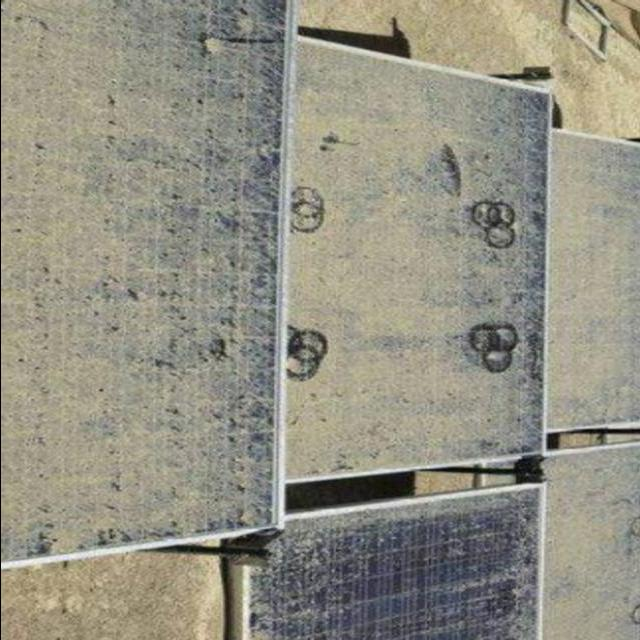soiled: (0, 0, 278, 558), (281, 26, 547, 474), (242, 491, 541, 639), (539, 120, 638, 436), (535, 453, 638, 639)
